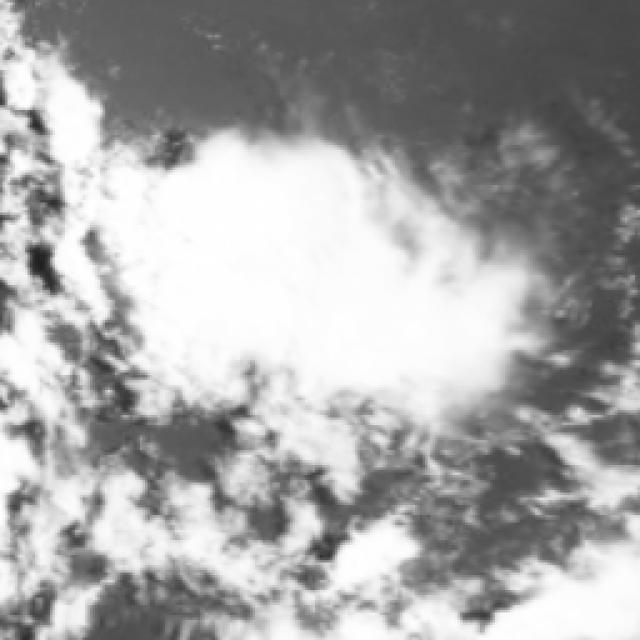CB: (172, 183, 375, 359)
